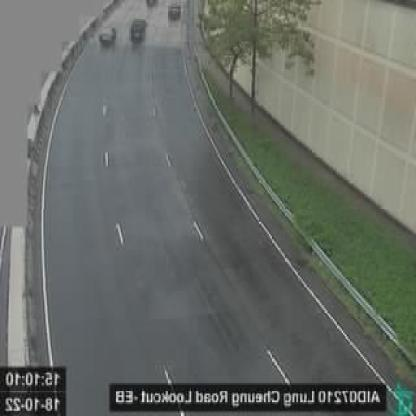Car: (129, 16, 147, 46), (96, 24, 117, 48), (167, 3, 181, 20)
